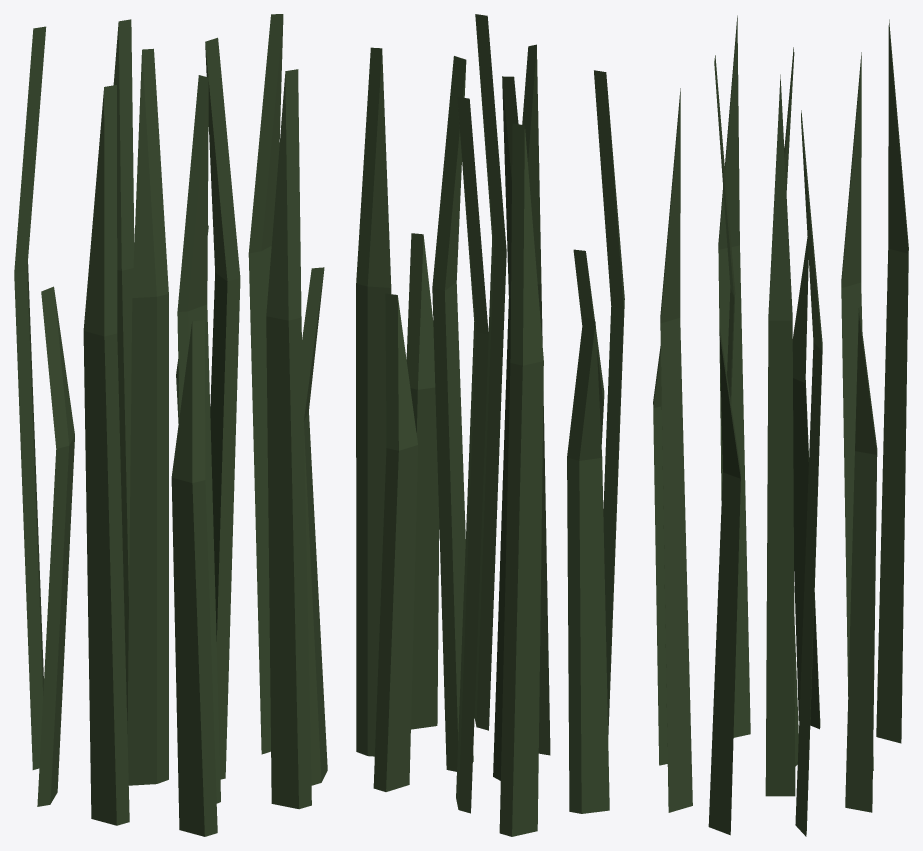
File: Grass.glb
3 views of the same model, side by side, from view 1: azimuth 30°, elevation 25°; view 2: azimuth 150°, elevation 25°; view 3: azimuth 270°, elevation 25° (orthographic). The views are drawn at different scales.
Visible parts, largest first — view 1: Grass; view 2: Grass; view 3: Grass.
Boxes of the visible parts, x1,y1,x2,y2 form: Grass: [14, 14, 327, 836]; Grass: [356, 14, 624, 836]; Grass: [653, 15, 908, 836].
Bounding box in the file's own units: 0.3738 × 1.01 × 0.3272.
